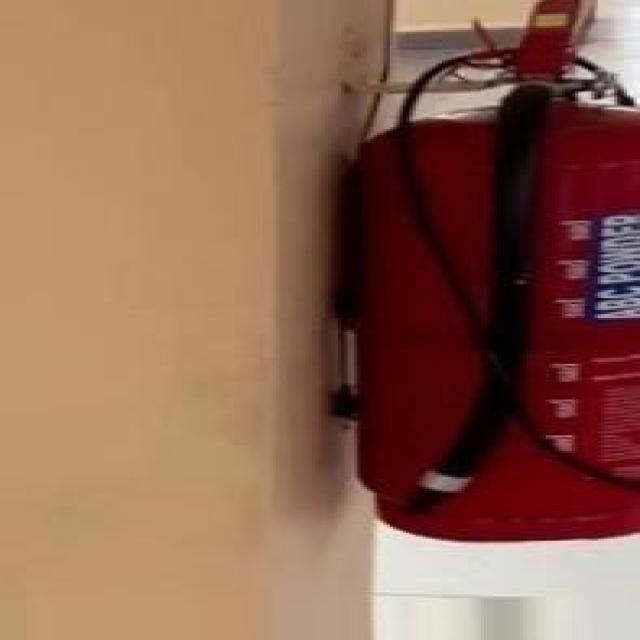fire_extinguisher: (318, 0, 637, 547)
